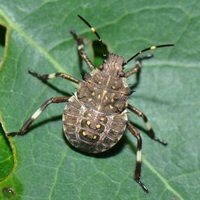insect: (6, 15, 174, 192)
